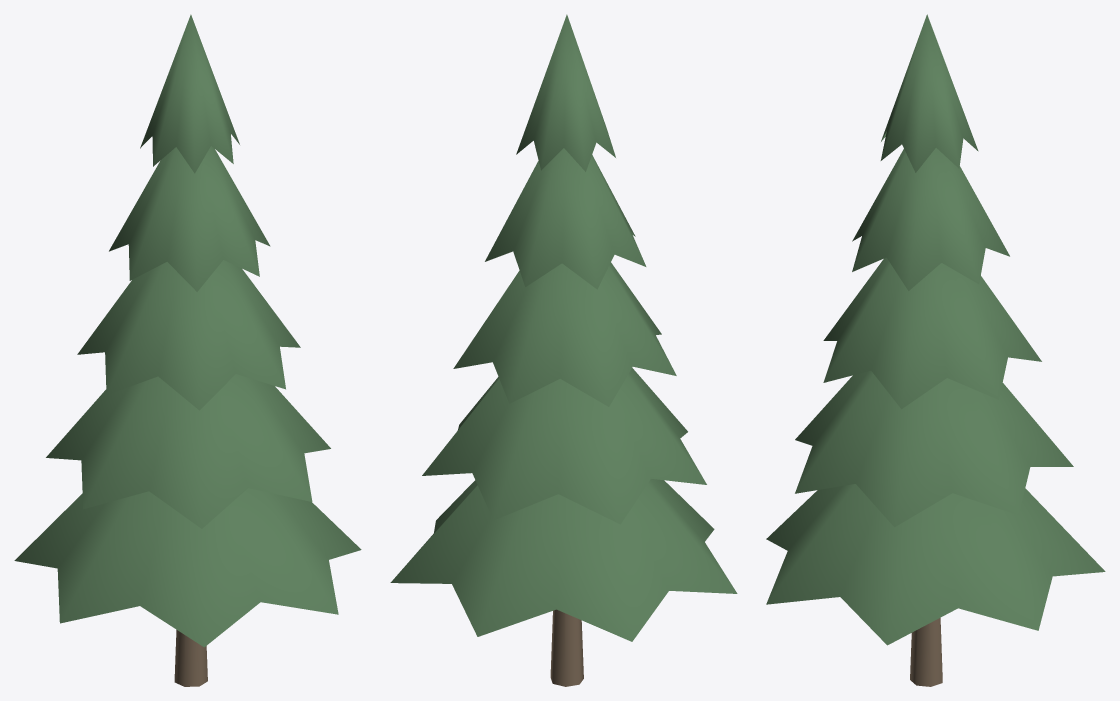
File: tree_conifer.glb
3 views of the same model, side by side, from view 1: azimuth 30°, elevation 25°; view 2: azimuth 150°, elevation 25°; view 3: azimuth 270°, elevation 25° (orthographic).
Parts seen in each view (by area): view 1: tree_conifer; view 2: tree_conifer; view 3: tree_conifer.
Boxes of the visible parts, x1=… form: tree_conifer: x1=14, y1=14, x2=361, y2=686; tree_conifer: x1=390, y1=14, x2=737, y2=686; tree_conifer: x1=766, y1=14, x2=1105, y2=686.
Size of what is drawn, in the model's own units: 5.26 by 11.1 by 5.13.
